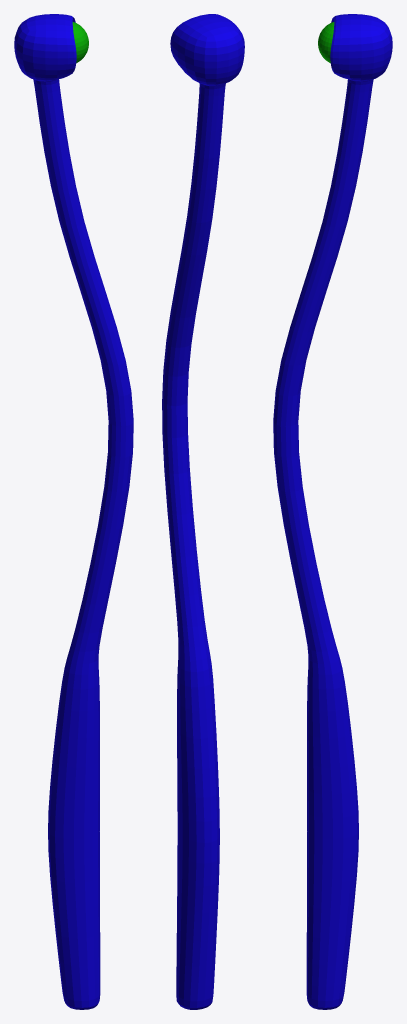
File: ball_thrower_blue.glb
3 renders of one model, left to right at view 1: azimuth 90°, elevation 25°; view 2: azimuth 210°, elevation 25°; view 3: azimuth 270°, elevation 25°, orthographic.
Visible parts, largest first — view 1: Cube, Sphere.001; view 2: Cube; view 3: Cube, Sphere.001.
Part boxes in pixels (x1=…): Cube: x1=14, y1=14, x2=133, y2=1009; Sphere.001: x1=72, y1=22, x2=88, y2=62; Cube: x1=162, y1=14, x2=244, y2=1009; Cube: x1=273, y1=14, x2=392, y2=1009; Sphere.001: x1=318, y1=22, x2=334, y2=62.
Bounding box in the file's own units: 0.0616 × 1 × 0.1103.
